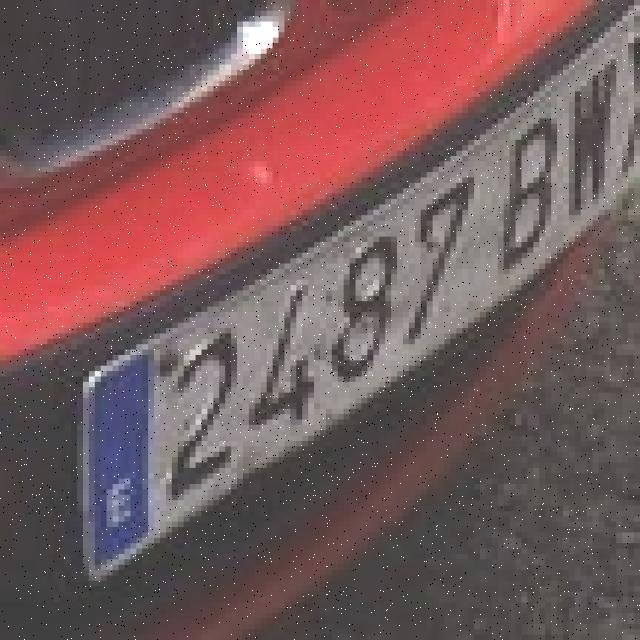LicensePlate: (8, 0, 639, 595)
